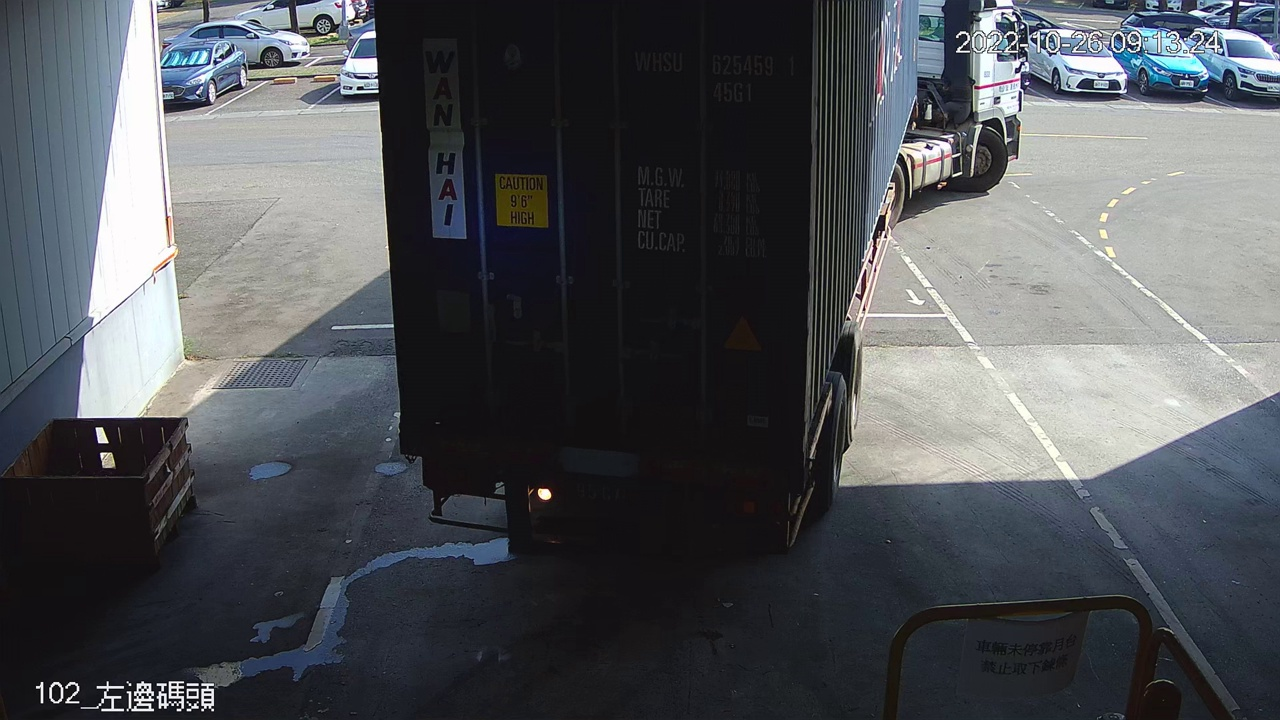container: (625, 38, 804, 112)
